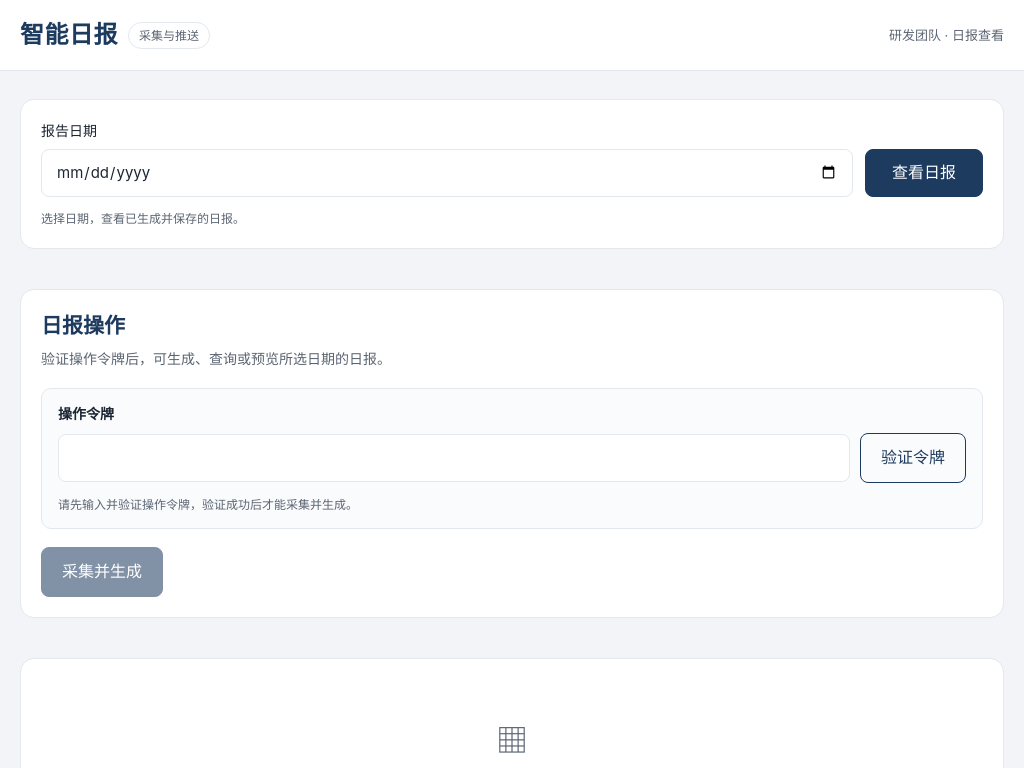
a_running_operation_on_another_day_is_visible_without_wrong_preview
The image size is (1024, 768).
In the date field labelled "报告日期": (447, 173) [41,149,853,197], type "2026-09-25"
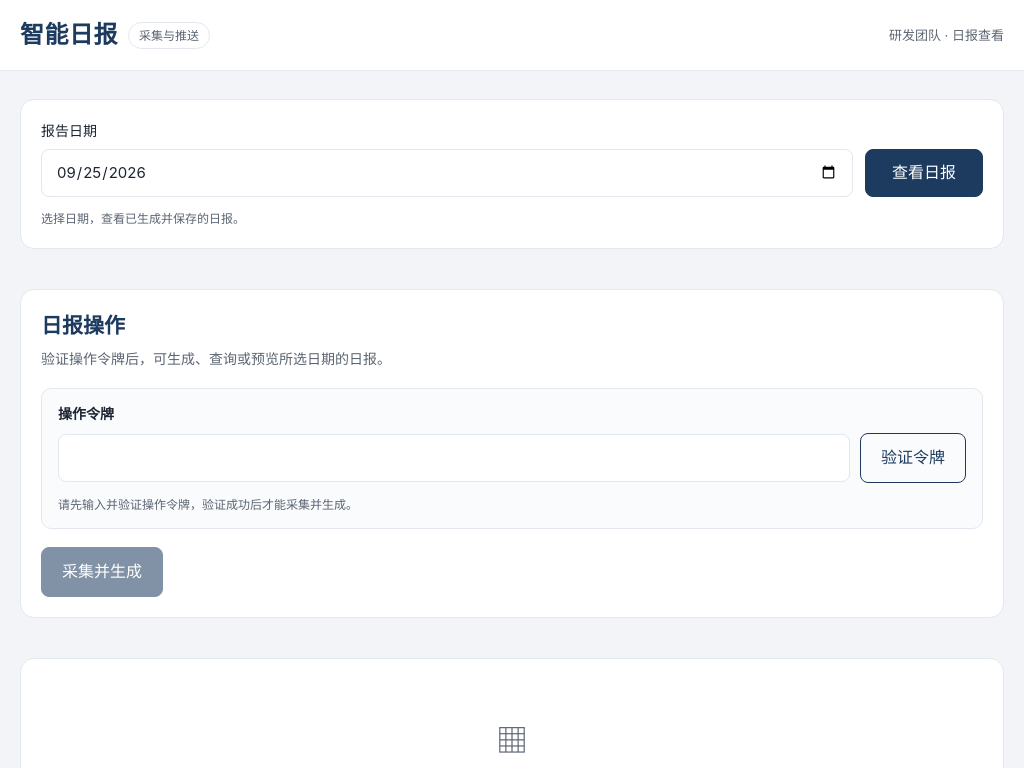
In the password field labelled "操作令牌": (454, 458) [58,434,850,482], type "private-token"
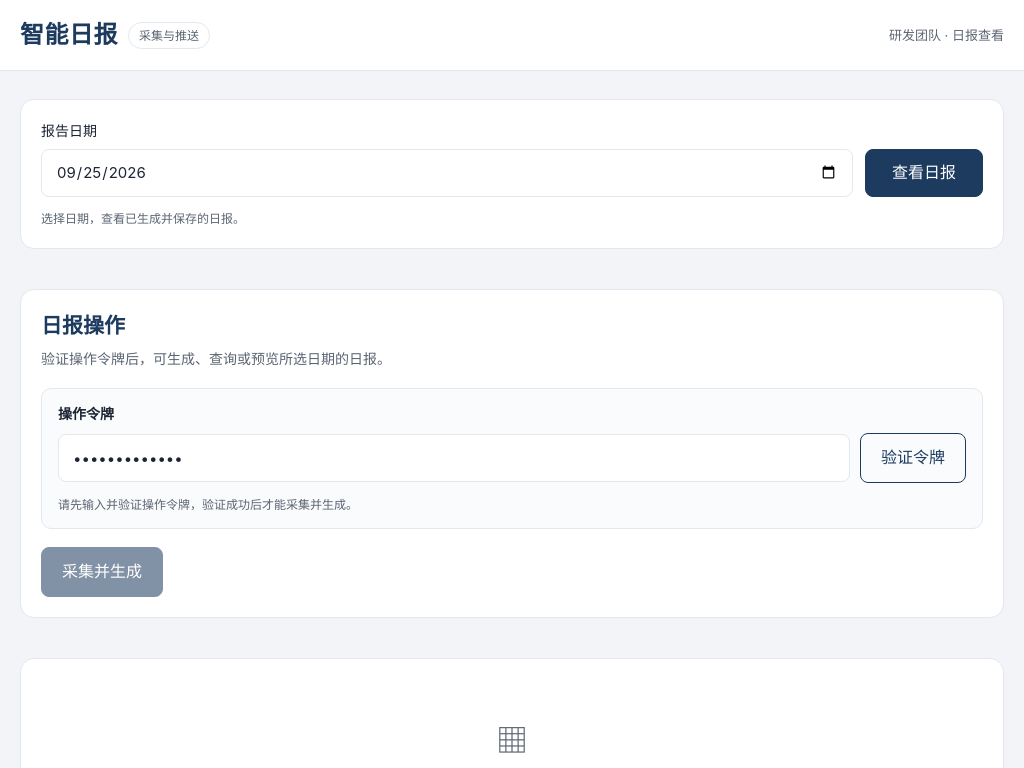
Click the button "验证令牌": (913, 458) [860,433,966,483]
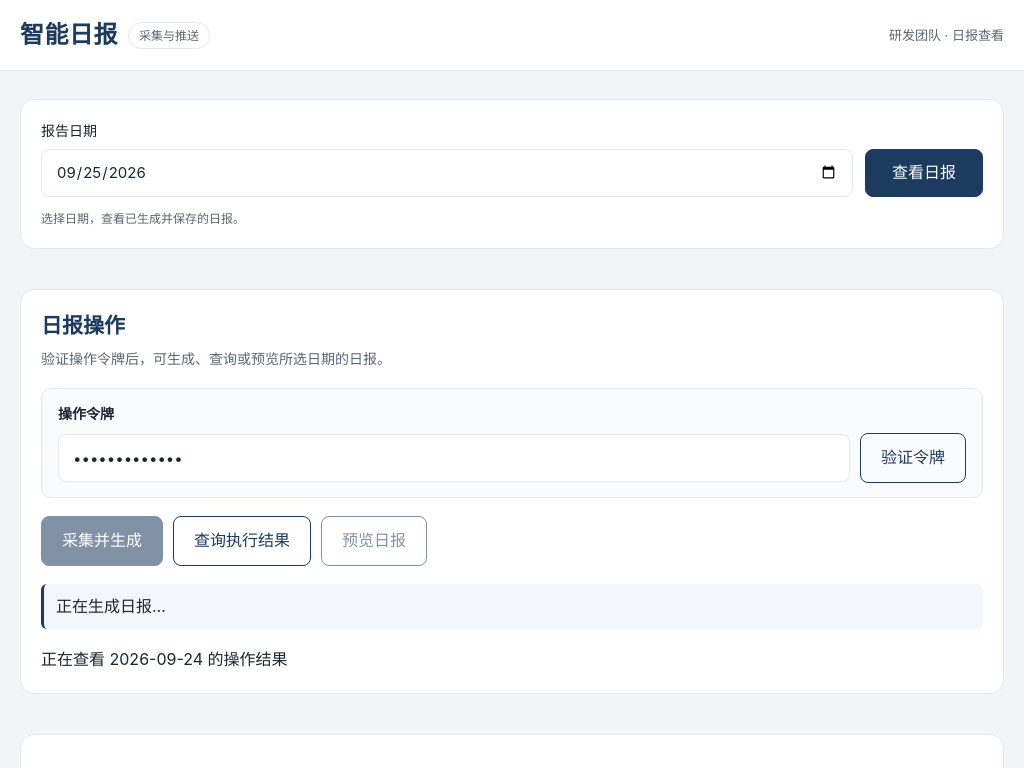
expect the button "采集并生成" is disabled: met, box [41,516,163,566]
expect the text "正在查看 2026-09-24 的操作结果" is shown: met, box [41,649,288,669]
